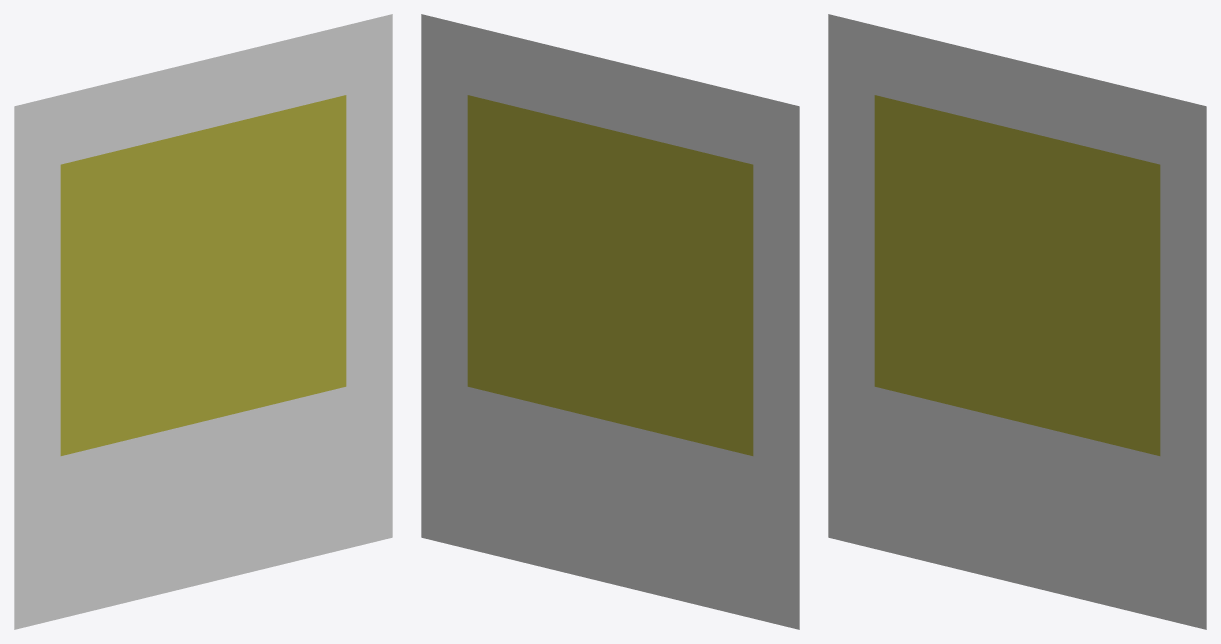
Rendered from Polaroid 3.fbx.
The picture shows the model from 3 angles, left to right: view 1: azimuth 30°, elevation 25°; view 2: azimuth 150°, elevation 25°; view 3: azimuth 330°, elevation 25°; orthographic projection.
Parts seen in each view (by area): view 1: Polaroid 3; view 2: Polaroid 3; view 3: Polaroid 3.
Part boxes in pixels (x1,y1,x2,y2): Polaroid 3: [14, 14, 392, 629]; Polaroid 3: [421, 14, 799, 629]; Polaroid 3: [828, 14, 1206, 629].
Size of the model in its own units: 138 by 182 by 2.96e-05.
